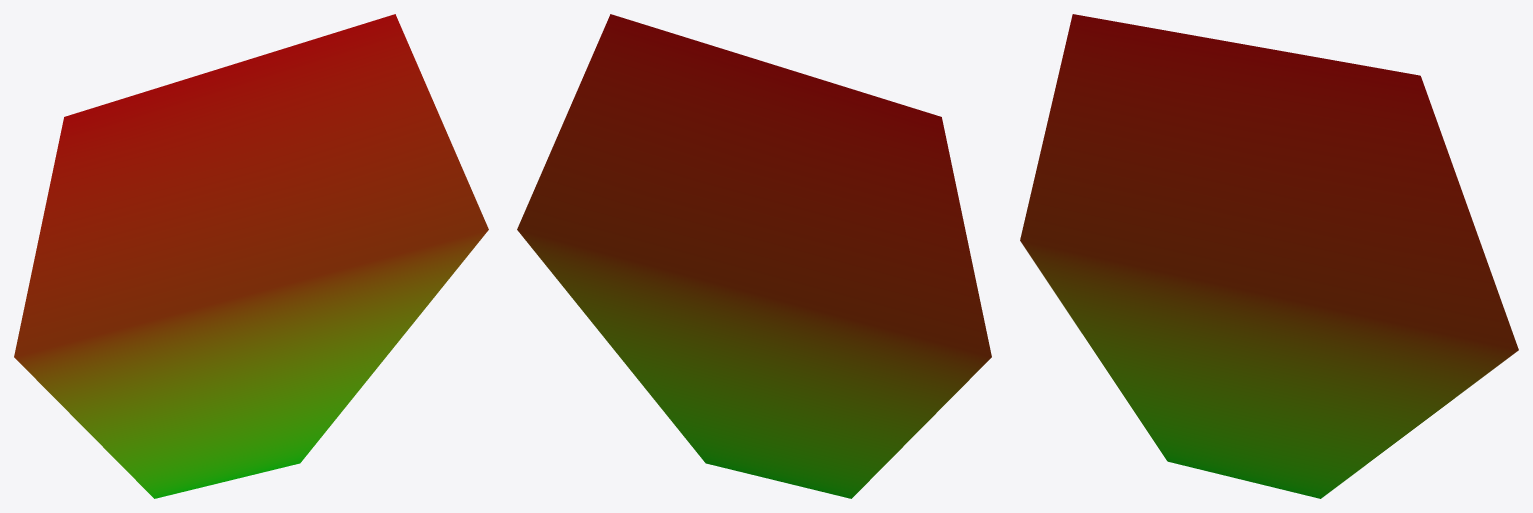
Rendered from Leafy Nineawn_LOD3_Var1_tlijciuia.fbx.
The picture shows the model from 3 angles, left to right: view 1: azimuth 30°, elevation 25°; view 2: azimuth 150°, elevation 25°; view 3: azimuth 330°, elevation 25°; orthographic projection. The views are drawn at different scales.
Visible parts, largest first — view 1: _d567_Var1_LOD3; view 2: _d567_Var1_LOD3; view 3: _d567_Var1_LOD3.
Part boxes in pixels (x1,y1,x2,y2): _d567_Var1_LOD3: (14,14,488,498); _d567_Var1_LOD3: (517,14,991,498); _d567_Var1_LOD3: (1020,14,1518,498).
Bounding box in the file's own units: 15.73 × 13.49 × 3.4e-06.
